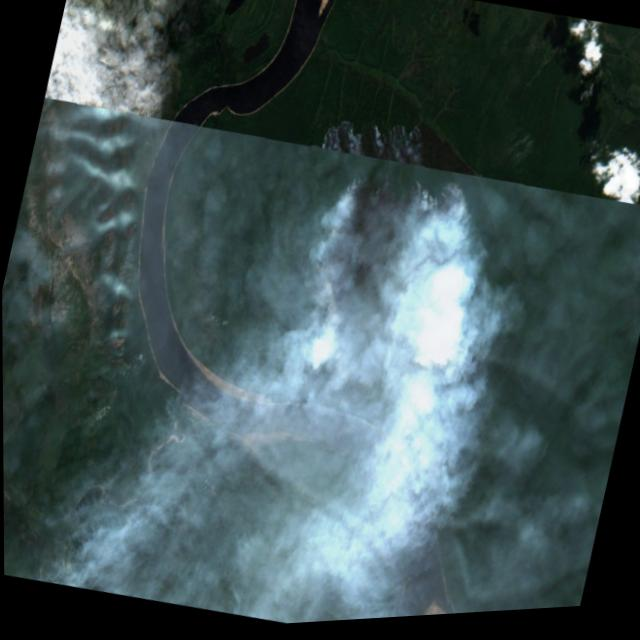fire: (262, 108, 502, 412)
